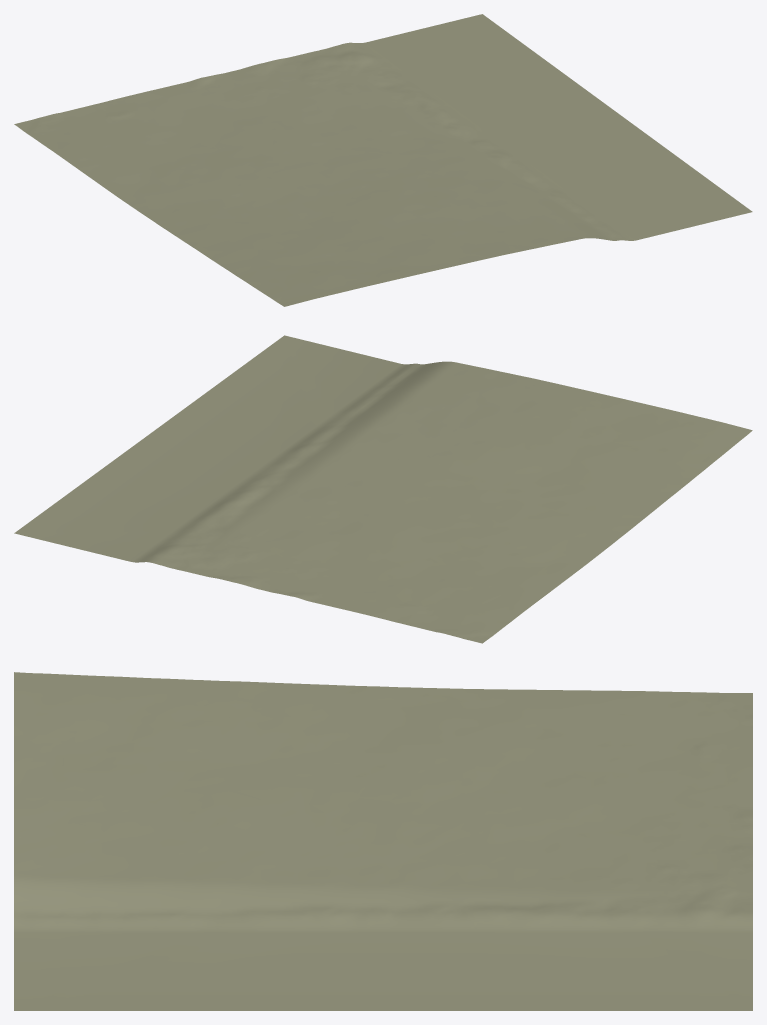
The model's file is SM_VB_CityTerrain_0_3.fbx.
The picture shows the model from 3 angles, top to bottom: view 1: azimuth 30°, elevation 25°; view 2: azimuth 150°, elevation 25°; view 3: azimuth 270°, elevation 25°; orthographic projection. The views are drawn at different scales.
Parts seen in each view (by area): view 1: SM_VB_CityTerrain_0_3; view 2: SM_VB_CityTerrain_0_3; view 3: SM_VB_CityTerrain_0_3.
Part boxes in pixels (x1,y1,x2,y2): SM_VB_CityTerrain_0_3: [14, 14, 752, 306]; SM_VB_CityTerrain_0_3: [14, 335, 752, 643]; SM_VB_CityTerrain_0_3: [14, 672, 752, 1010].
Size of the model in its own units: 600 by 24.33 by 600.
